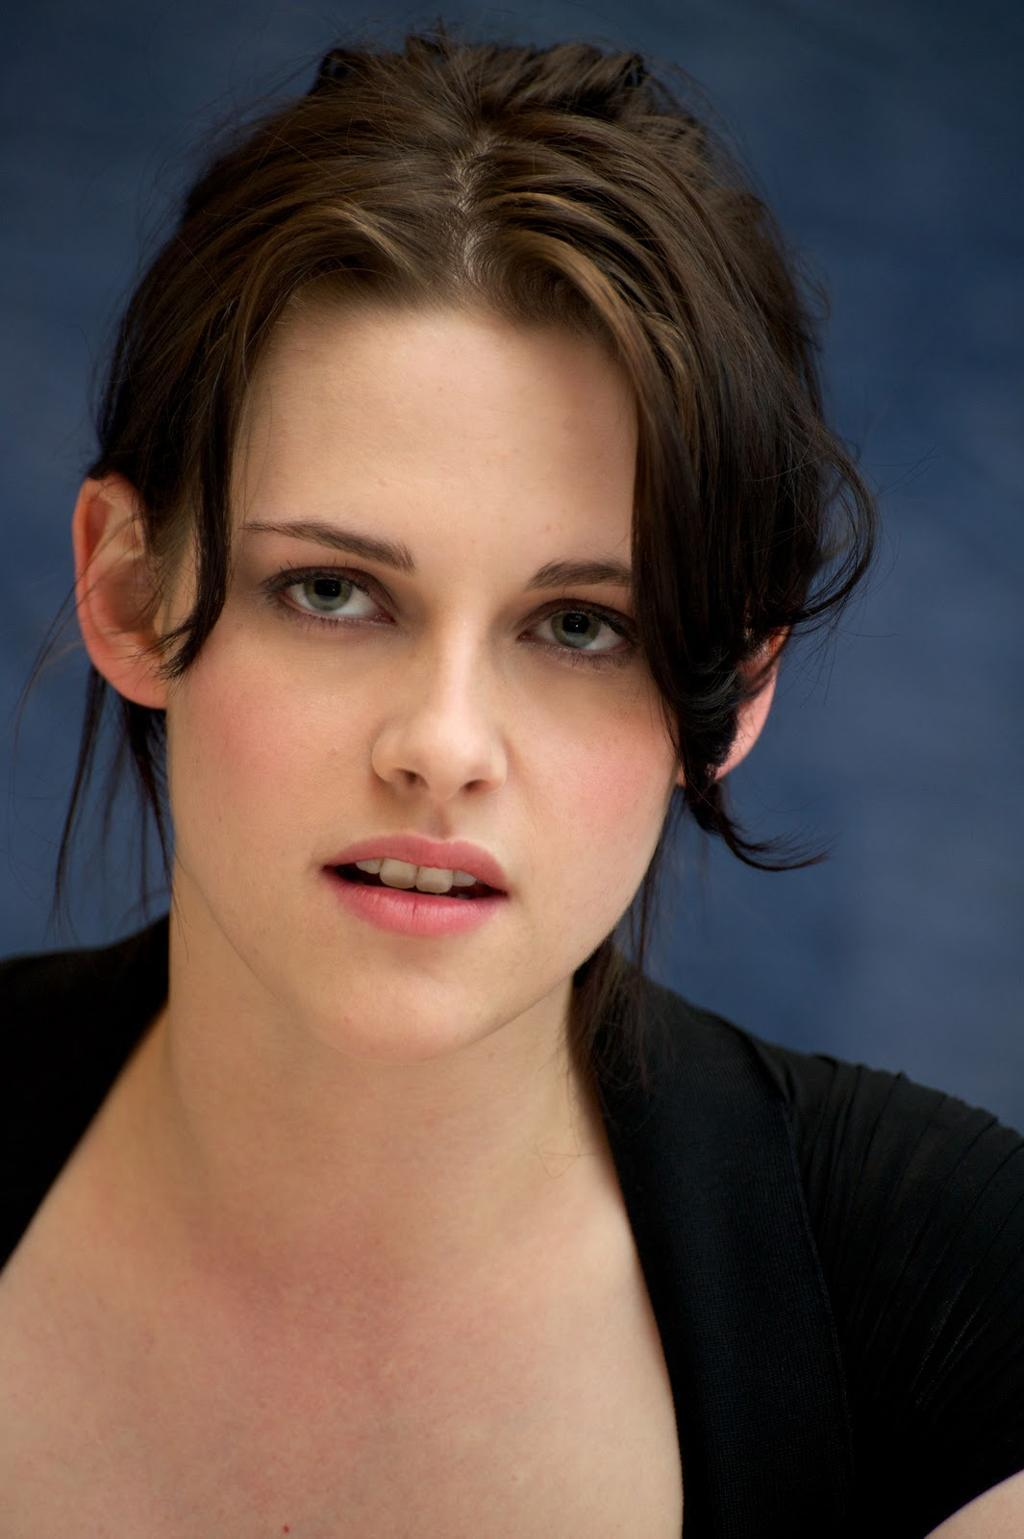face: (178, 304, 679, 1055)
